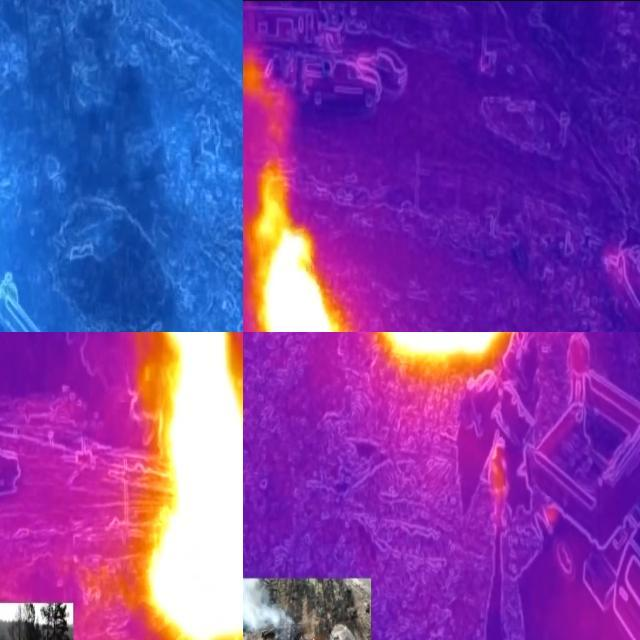fire: (131, 333, 244, 640), (248, 170, 352, 333), (373, 328, 515, 363)
